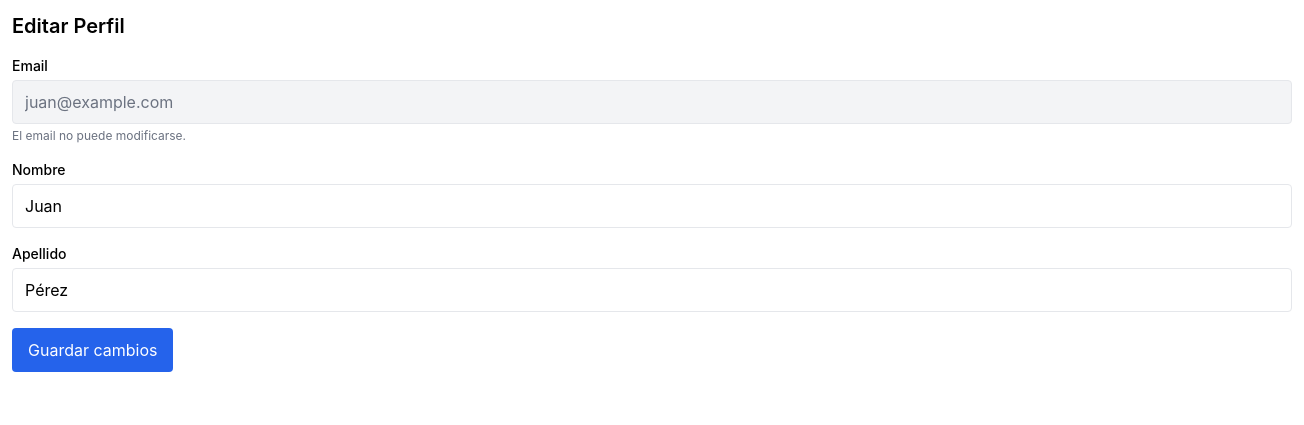
Test case: EditProfileForm › shows success message on mutation success
This screenshot has width=1304, height=425.
Step 1. Click the button "Guardar cambios" → (93, 350), box [12,328,174,372]
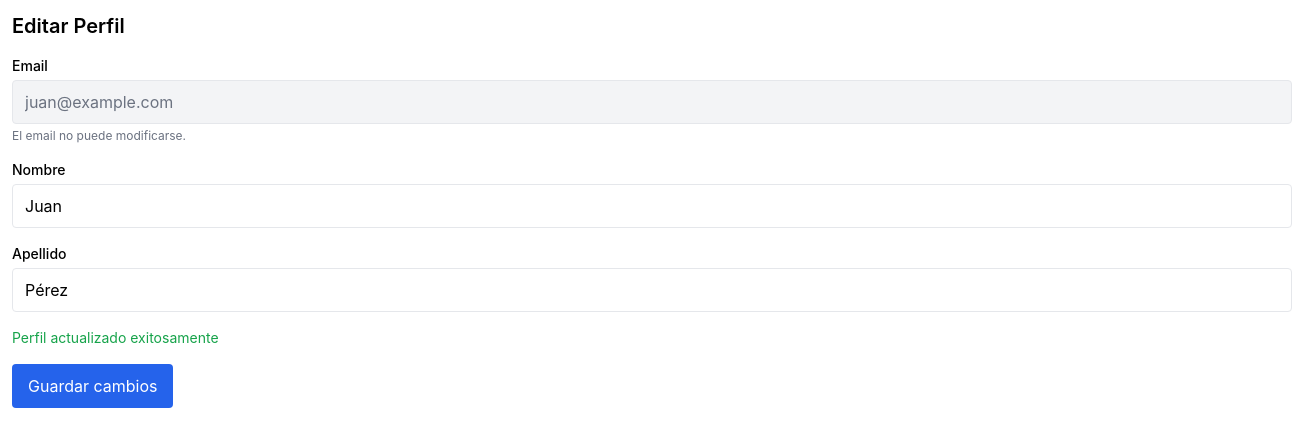
Expected: the text "Perfil actualizado exitosamente" is shown, [12,329,219,346]
